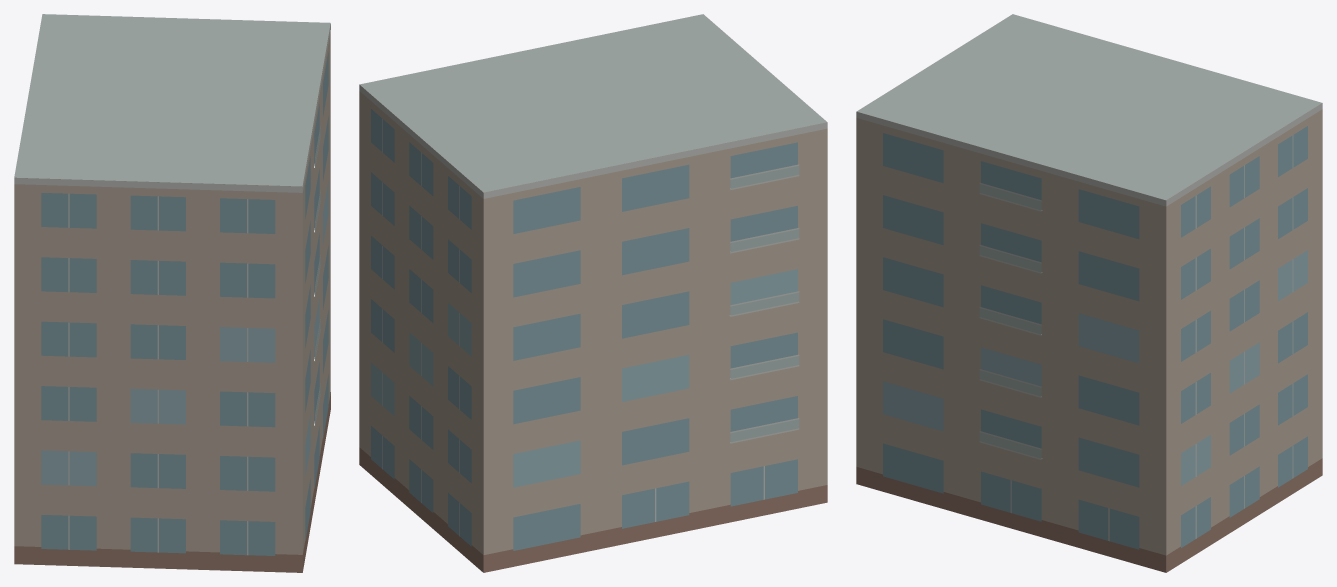
File: survey-upis-33019852.glb
The picture shows the model from 3 angles, left to right: view 1: azimuth 30°, elevation 25°; view 2: azimuth 150°, elevation 25°; view 3: azimuth 270°, elevation 25°; orthographic projection. The views are drawn at different scales.
Parts seen in each view (by area): view 1: survey-upis-33019852.tmp; view 2: survey-upis-33019852.tmp; view 3: survey-upis-33019852.tmp.
Boxes of the visible parts, x1,y1,x2,y2 form: survey-upis-33019852.tmp: (14, 14, 330, 572); survey-upis-33019852.tmp: (359, 14, 827, 572); survey-upis-33019852.tmp: (856, 14, 1322, 572).
Size of the model in its own units: 15.67 by 14.6 by 16.57.
